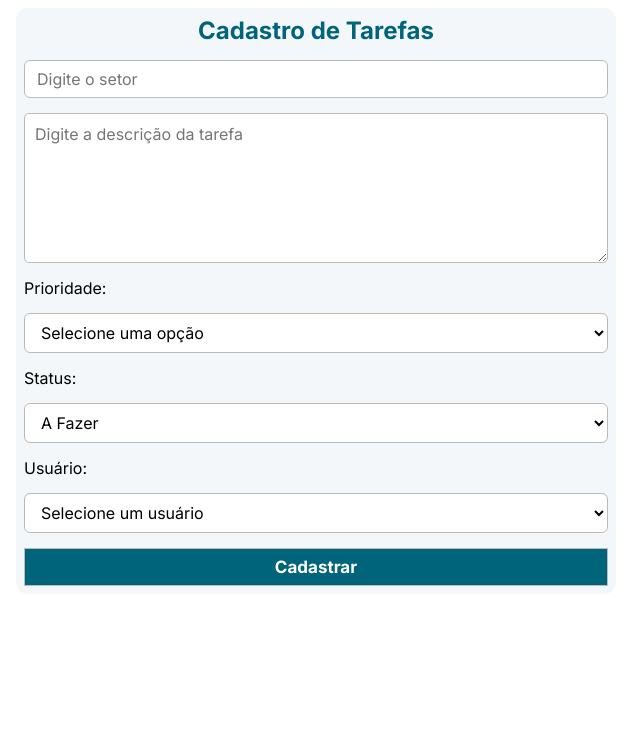
Cadastro de tarefas › deve mostrar erro quando o campo estiver vazio
Click the button "Cadastrar" at point(316, 567), box 24,548 -> 608,586
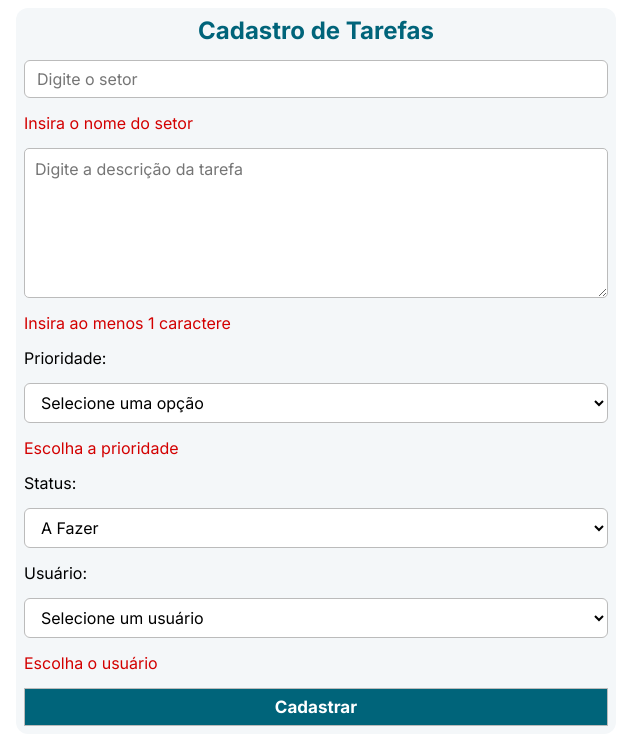
Check: the text "Insira ao menos 1 caractere" is shown, box 24,313 -> 231,333
